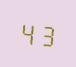four: (19, 18, 36, 46)
three: (37, 19, 54, 48)
